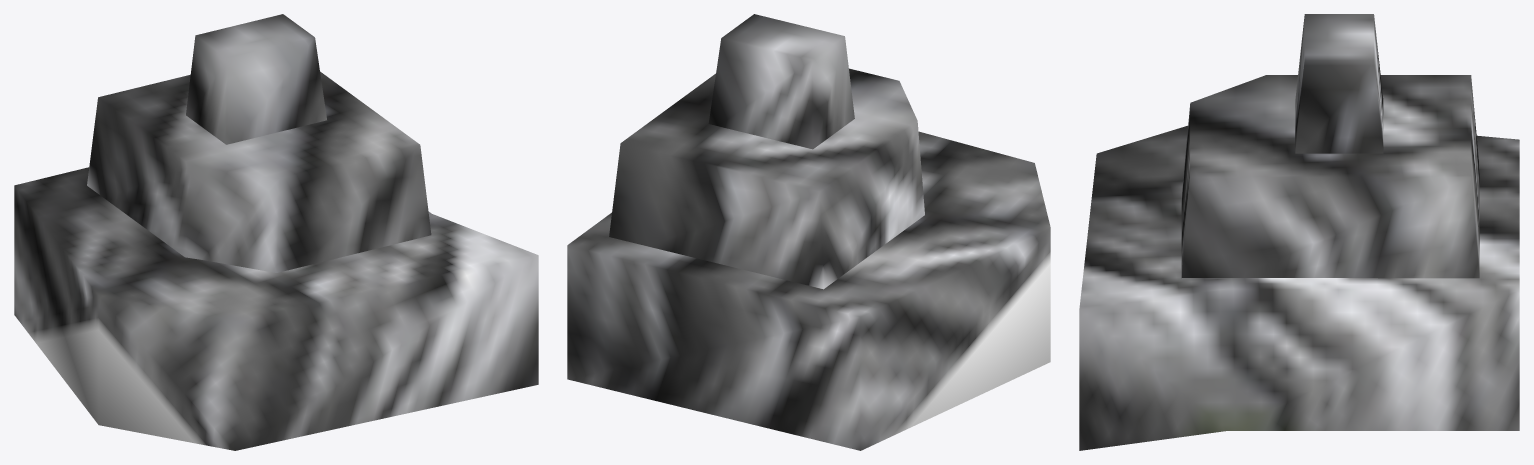
Rendered from Rock6.fbx.
The picture shows the model from 3 angles, left to right: view 1: azimuth 30°, elevation 25°; view 2: azimuth 150°, elevation 25°; view 3: azimuth 270°, elevation 25°; orthographic projection. The views are drawn at different scales.
Parts seen in each view (by area): view 1: Rock6; view 2: Rock6; view 3: Rock6.
Part boxes in pixels (left/top/right/bottom): Rock6: left=14, top=14, right=538, bottom=450; Rock6: left=567, top=14, right=1050, bottom=450; Rock6: left=1079, top=14, right=1519, bottom=450.
Bounding box in the file's own units: 183 × 141 × 173.
